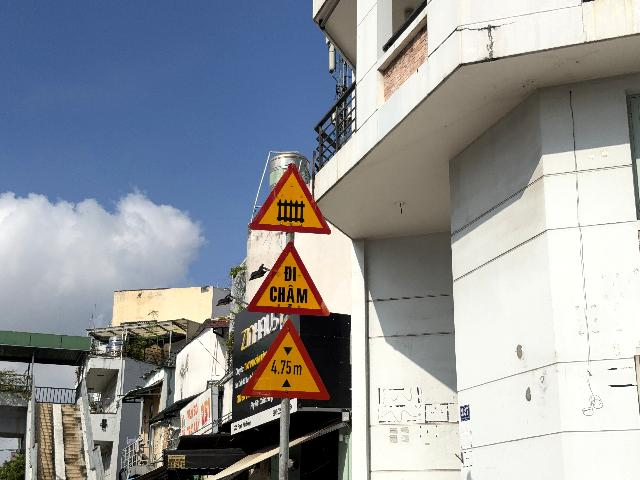chieu-cao-tinh-khong-thuc-te: (241, 319, 331, 400)
di-cham: (246, 240, 331, 316)
noi-giao-nhau-voi-duong-sat-co-rao-chan: (249, 162, 331, 235)
